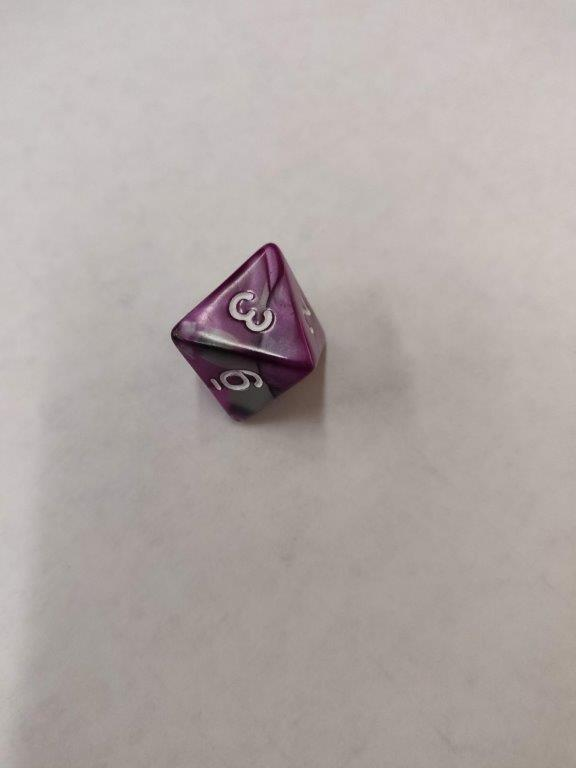d8-3: (170, 239, 326, 427)
